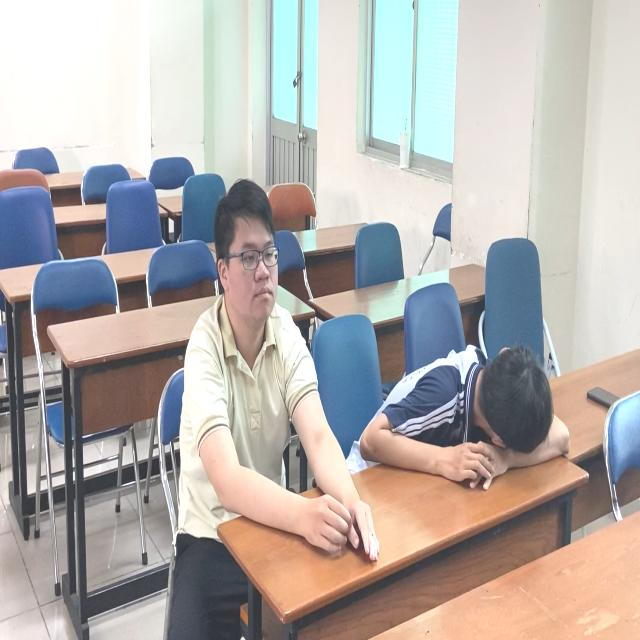sleep: (346, 339, 582, 499)
